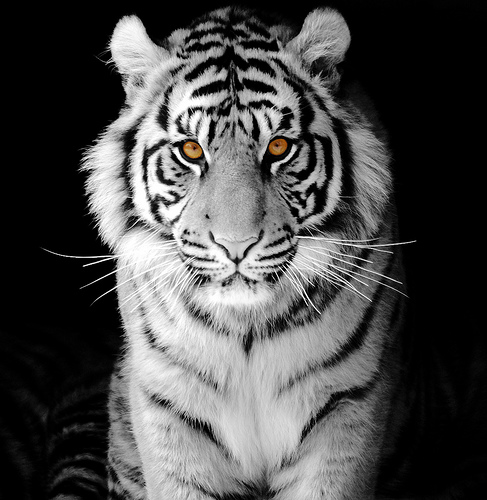Tigre: (97, 5, 405, 460)
